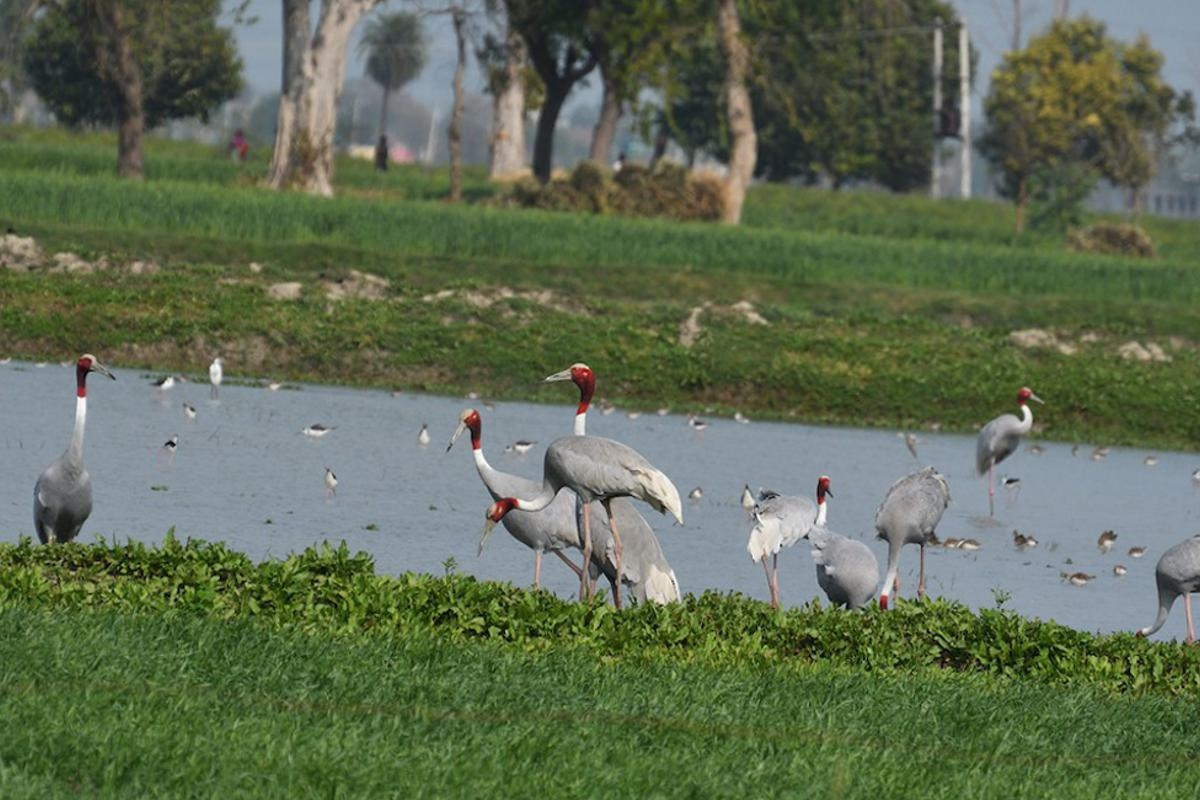crane: (471, 440, 678, 617), (549, 358, 683, 628), (444, 407, 575, 604), (26, 335, 114, 592), (746, 476, 837, 620), (967, 380, 1046, 514), (877, 467, 941, 620), (1141, 532, 1200, 660), (806, 528, 881, 625)
